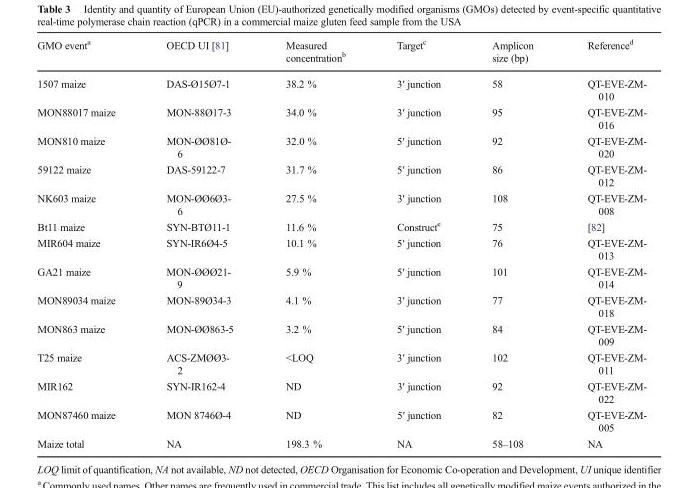table: (36, 37, 645, 448)
table column: (140, 37, 258, 448), (258, 37, 370, 448), (36, 37, 140, 448), (370, 37, 465, 448), (465, 37, 559, 448), (559, 37, 645, 448)
table column header: (36, 37, 645, 70)
table row: (36, 37, 645, 70), (36, 70, 645, 103), (36, 103, 645, 132), (36, 160, 645, 189), (36, 234, 645, 263), (36, 291, 645, 320), (36, 320, 645, 349), (36, 377, 645, 406), (36, 406, 645, 435), (36, 132, 645, 160), (36, 189, 645, 217), (36, 263, 645, 291), (36, 349, 645, 377), (36, 217, 645, 234), (36, 435, 645, 448)
